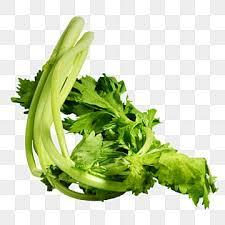non-mango: (11, 15, 218, 208)
